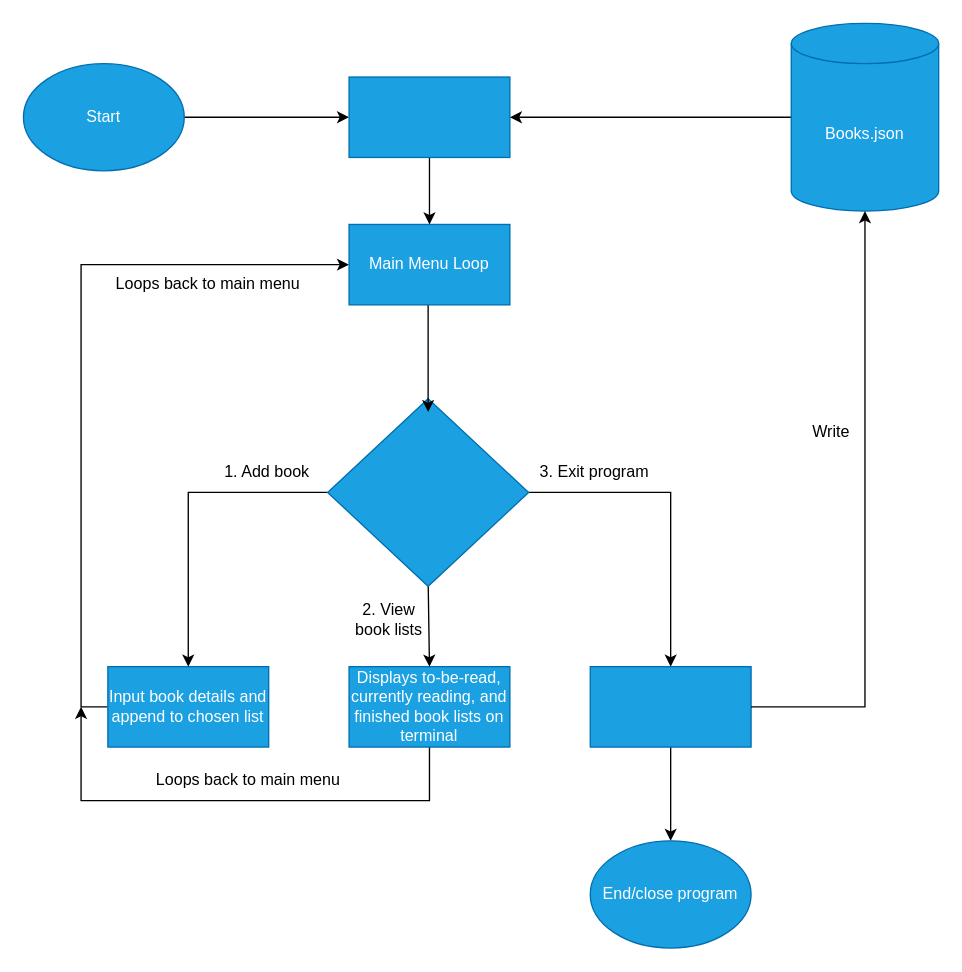
Some shapes in this 962 by 972 pixel diagram are drawn without their labels. Each missing label, with the centre of its shape:
"Load book data" belongs at (x=429, y=116).
"Saves book data" belongs at (x=670, y=706).
"User Input 1. Add book 2. View book lists 3. Exit" belongs at (x=427, y=491).
